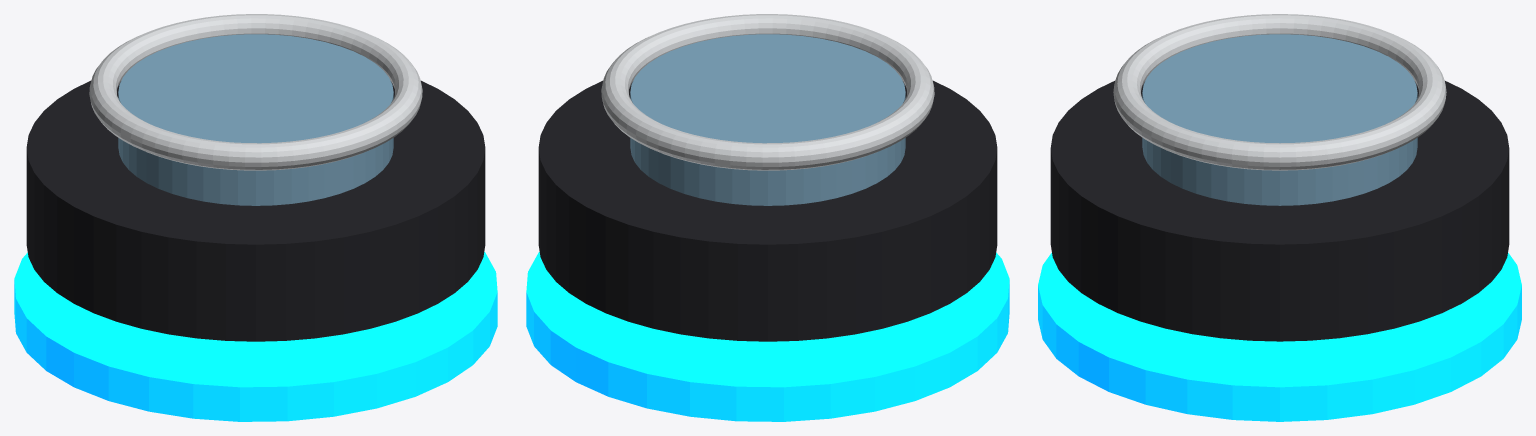
The model's file is news_camera_lens.glb.
The picture shows the model from 3 angles, left to right: view 1: azimuth 30°, elevation 25°; view 2: azimuth 150°, elevation 25°; view 3: azimuth 270°, elevation 25°; orthographic projection.
Visible parts, largest first — view 1: 09_16_Popular_News_Camera_Lens_part_01, 09_16_Popular_News_Camera_Lens_ROOT_base, 09_16_Popular_News_Camera_Lens_part_02, 09_16_Popular_News_Camera_Lens_part_03; view 2: 09_16_Popular_News_Camera_Lens_part_01, 09_16_Popular_News_Camera_Lens_ROOT_base, 09_16_Popular_News_Camera_Lens_part_02, 09_16_Popular_News_Camera_Lens_part_03; view 3: 09_16_Popular_News_Camera_Lens_part_01, 09_16_Popular_News_Camera_Lens_ROOT_base, 09_16_Popular_News_Camera_Lens_part_02, 09_16_Popular_News_Camera_Lens_part_03.
Boxes of the visible parts, bbox=[...] form: 09_16_Popular_News_Camera_Lens_part_01: bbox=[26, 80, 485, 341]; 09_16_Popular_News_Camera_Lens_ROOT_base: bbox=[14, 252, 497, 421]; 09_16_Popular_News_Camera_Lens_part_02: bbox=[118, 34, 393, 205]; 09_16_Popular_News_Camera_Lens_part_03: bbox=[89, 14, 422, 170]; 09_16_Popular_News_Camera_Lens_part_01: bbox=[538, 80, 997, 341]; 09_16_Popular_News_Camera_Lens_ROOT_base: bbox=[526, 252, 1009, 421]; 09_16_Popular_News_Camera_Lens_part_02: bbox=[630, 34, 905, 205]; 09_16_Popular_News_Camera_Lens_part_03: bbox=[601, 14, 934, 170]; 09_16_Popular_News_Camera_Lens_part_01: bbox=[1050, 81, 1509, 341]; 09_16_Popular_News_Camera_Lens_ROOT_base: bbox=[1038, 252, 1521, 421]; 09_16_Popular_News_Camera_Lens_part_02: bbox=[1142, 34, 1417, 205]; 09_16_Popular_News_Camera_Lens_part_03: bbox=[1113, 14, 1446, 170].
Size of the model in its own units: 0.76 by 0.4156 by 0.76.
